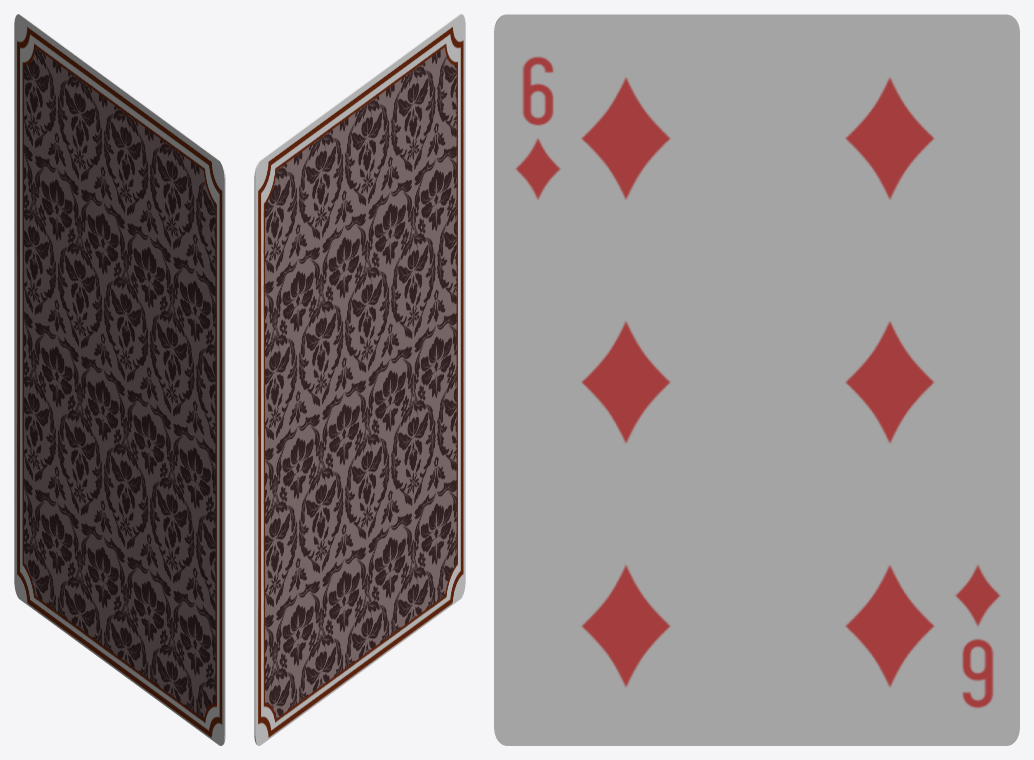
File: diamond6.glb
3 renders of one model, left to right at view 1: azimuth 30°, elevation 25°; view 2: azimuth 150°, elevation 25°; view 3: azimuth 270°, elevation 25°, orthographic. The views are drawn at different scales.
Visible parts, largest first — view 1: Cube; view 2: Cube; view 3: Cube.
Part boxes in pixels (<box>): Cube: <box>14,14,225,745</box>; Cube: <box>254,14,465,745</box>; Cube: <box>494,14,1019,745</box>.
Bounding box in the file's own units: 0.036 × 17.8 × 11.6.
Materials: 1 (1 with a texture image).
